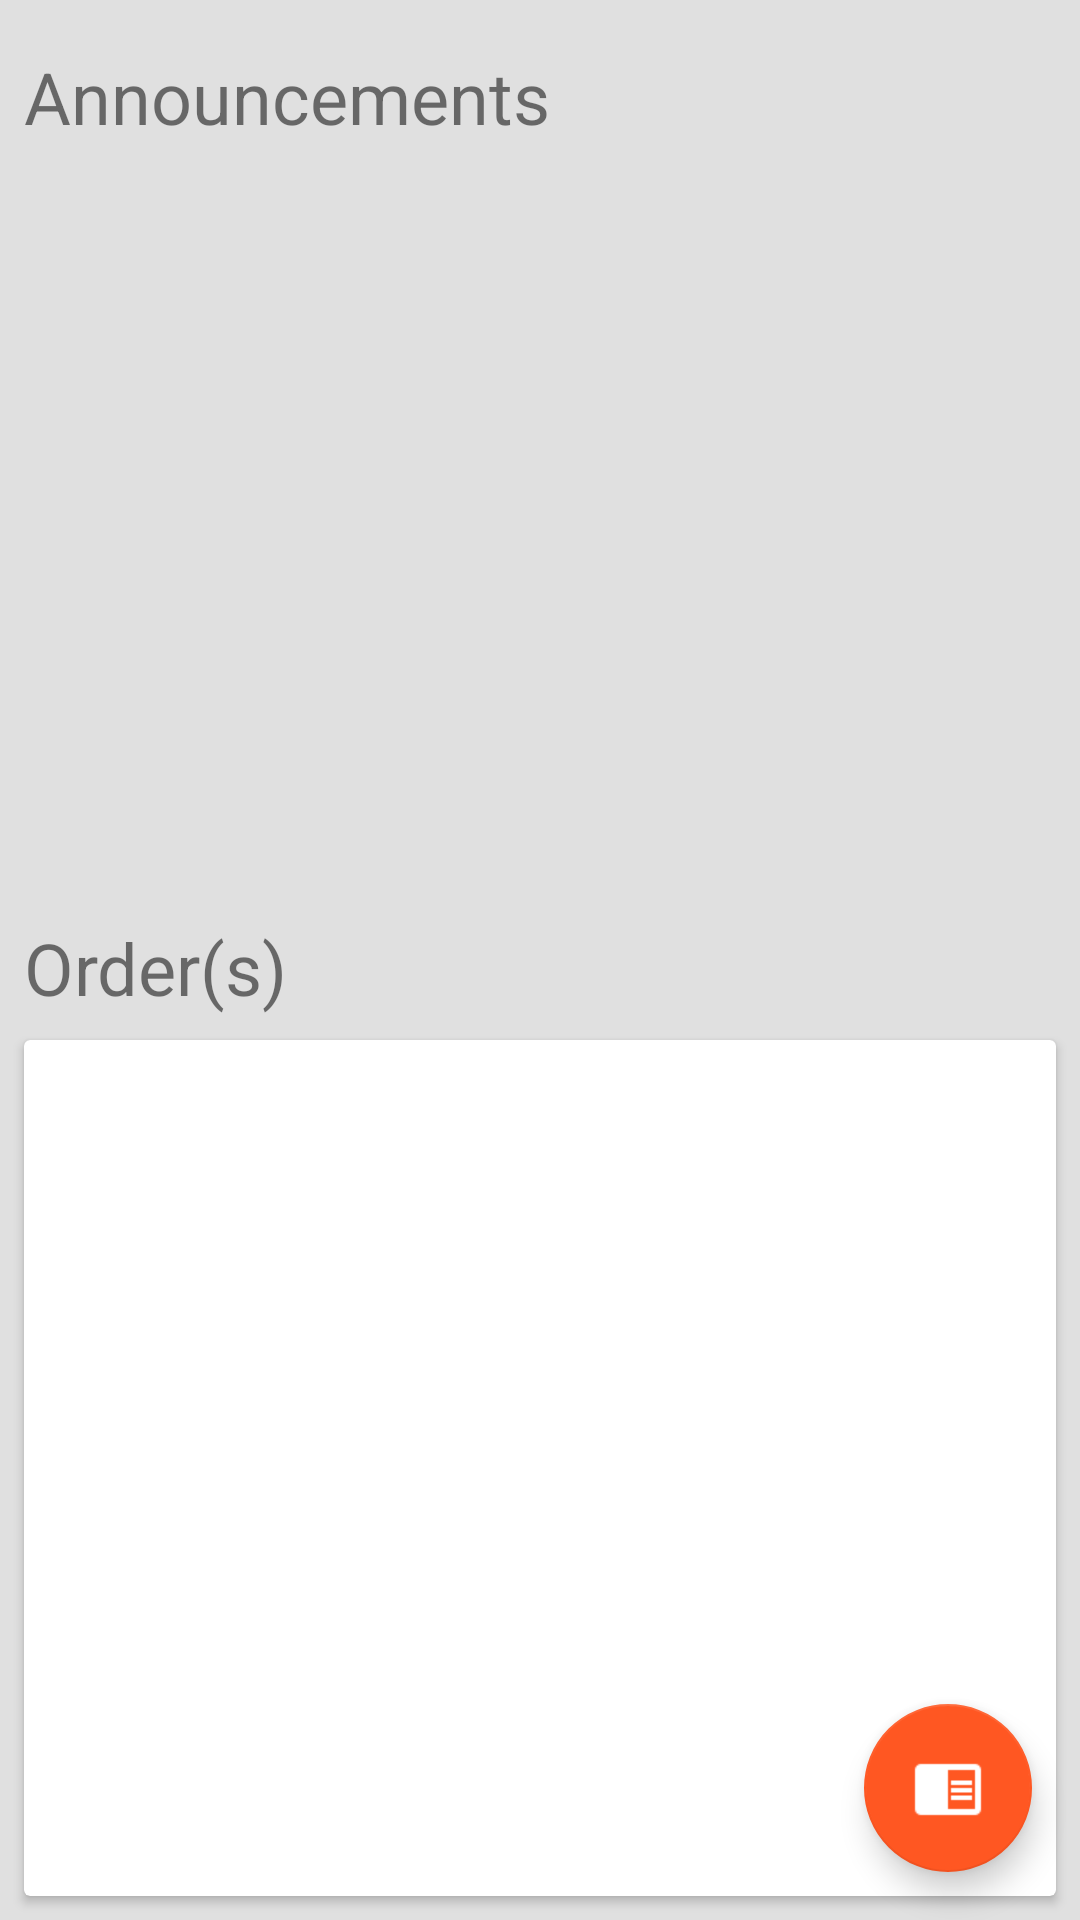

Where icons sit on this 1080 × 1920 app screen, as bbox=[x1, y1, x2, y2]:
Button to show Coffee Menu: bbox=[864, 1704, 1032, 1872]
